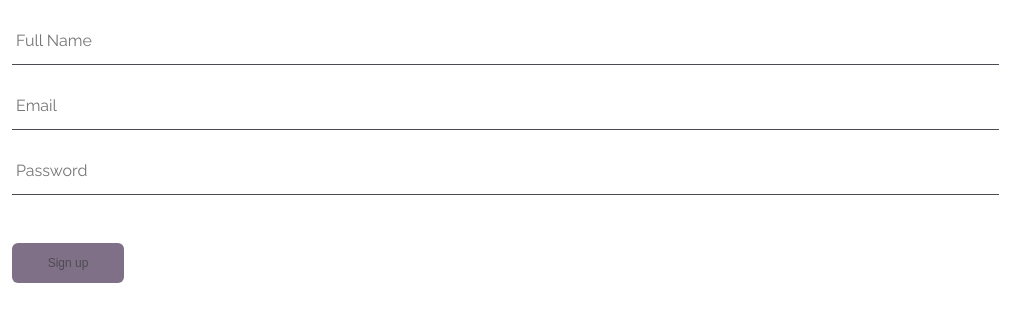
Test case: RegistrationForm › shows error for invalid email format
This screenshot has width=1016, height=330.
Type "Adam Smith" into the field with placeholder "Full Name" at (506, 40), box [12,16,999,65]
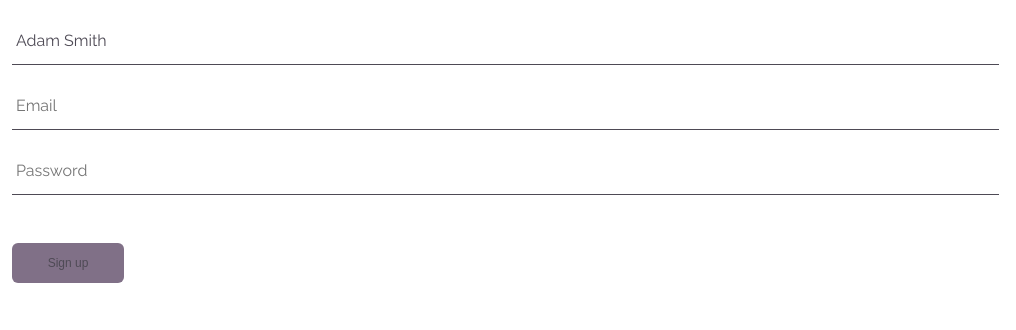
Type " smith" into the field with placeholder "Email" at (506, 106), box [12,81,999,130]
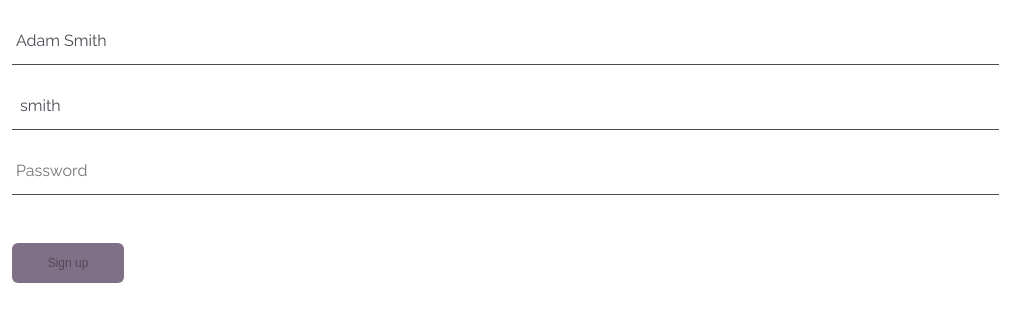
Type " 111111" into the password field with placeholder "Password" at (506, 170), box [12,146,999,195]
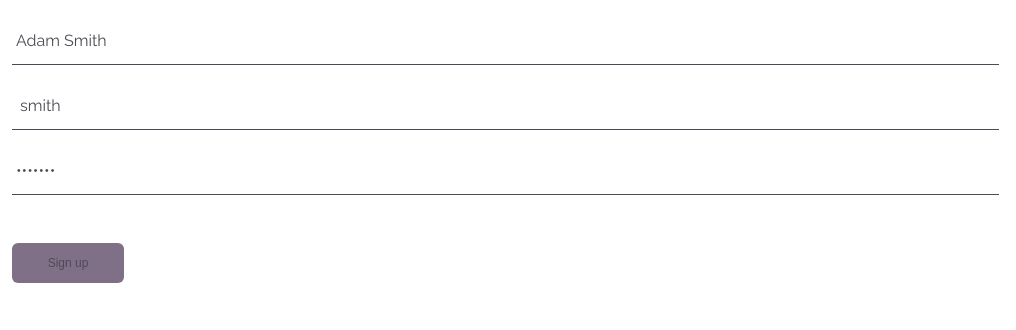
Click the button "Sign up" at (68, 263), box [12,243,124,283]
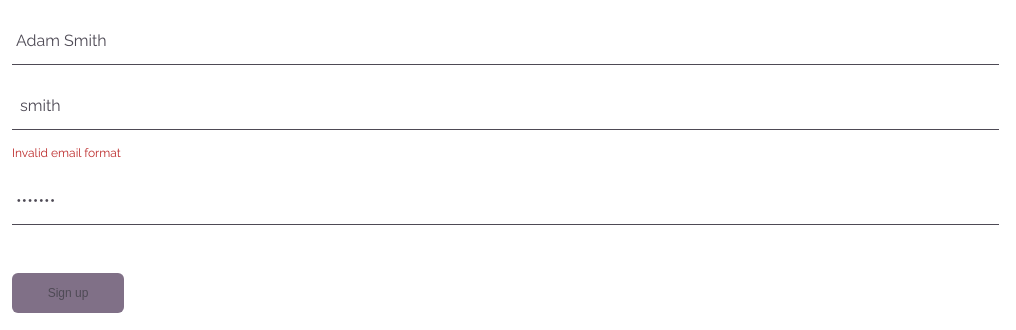
Expected: the text "Invalid email format" is shown, [12,146,121,160]
